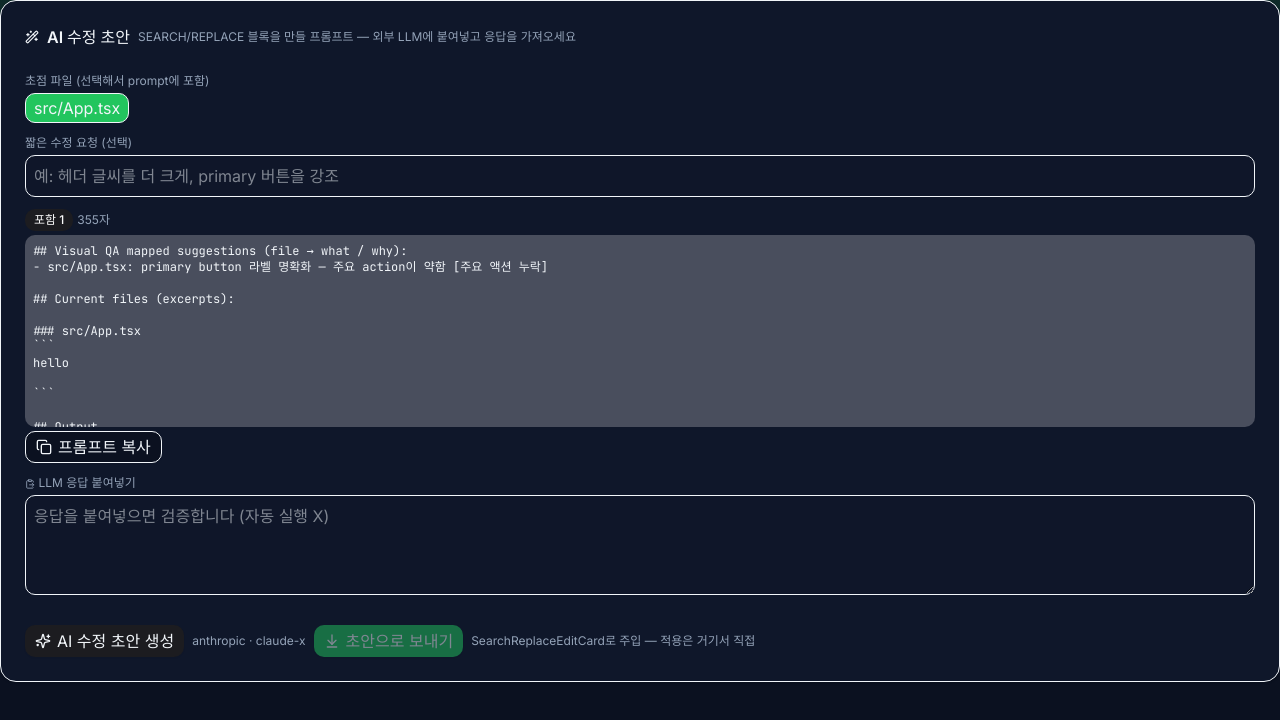
Test: TurboEditDraftCard — OSS-H5 producer surface › (T9 — H6) onGenerate 주입 + valid 응답 → paste 채움 + onSendDraft 자동 호출 + 자동 주입 라벨
Type "헤더 크게" into the field with test id "turbo-edits-instruction-th9" at [640, 176], box [25,155,1255,197]
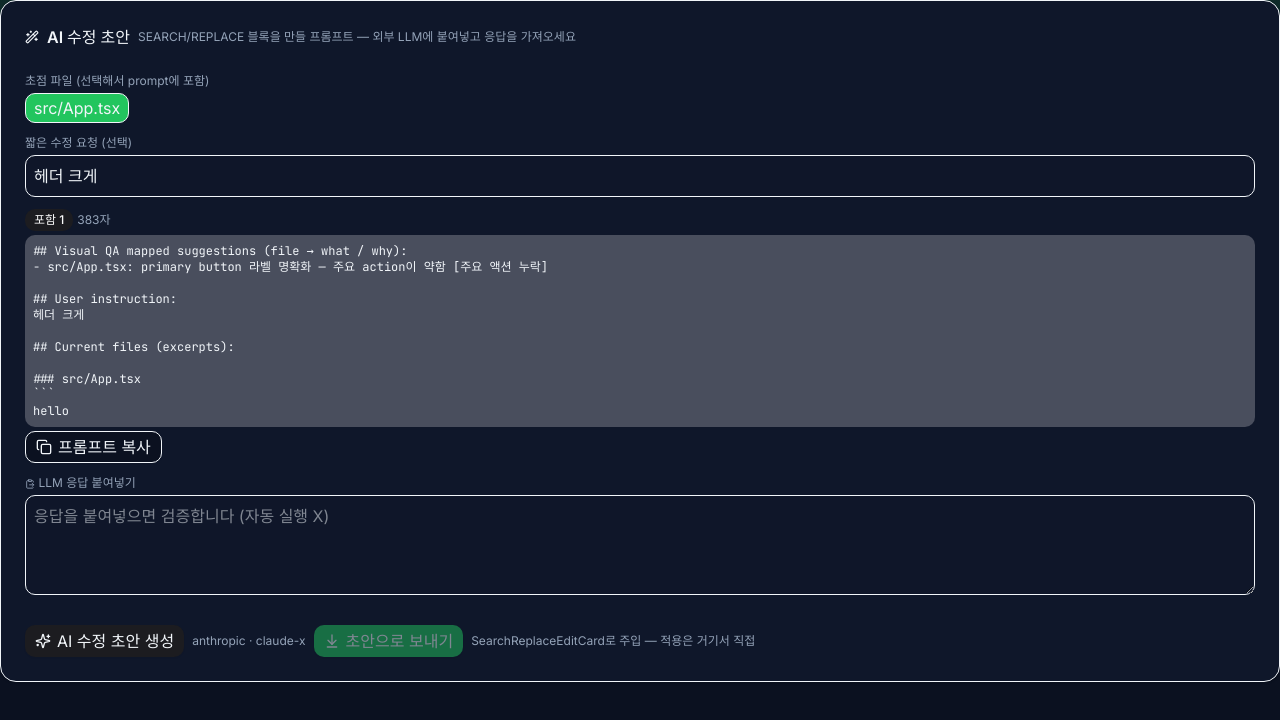
Expected: the text with test id "turbo-edits-provider-label-th9" shows "anthropic", [192,633,306,648]
Click the button with test id "turbo-edits-generate-th9" at [105, 641], box [25,625,184,657]
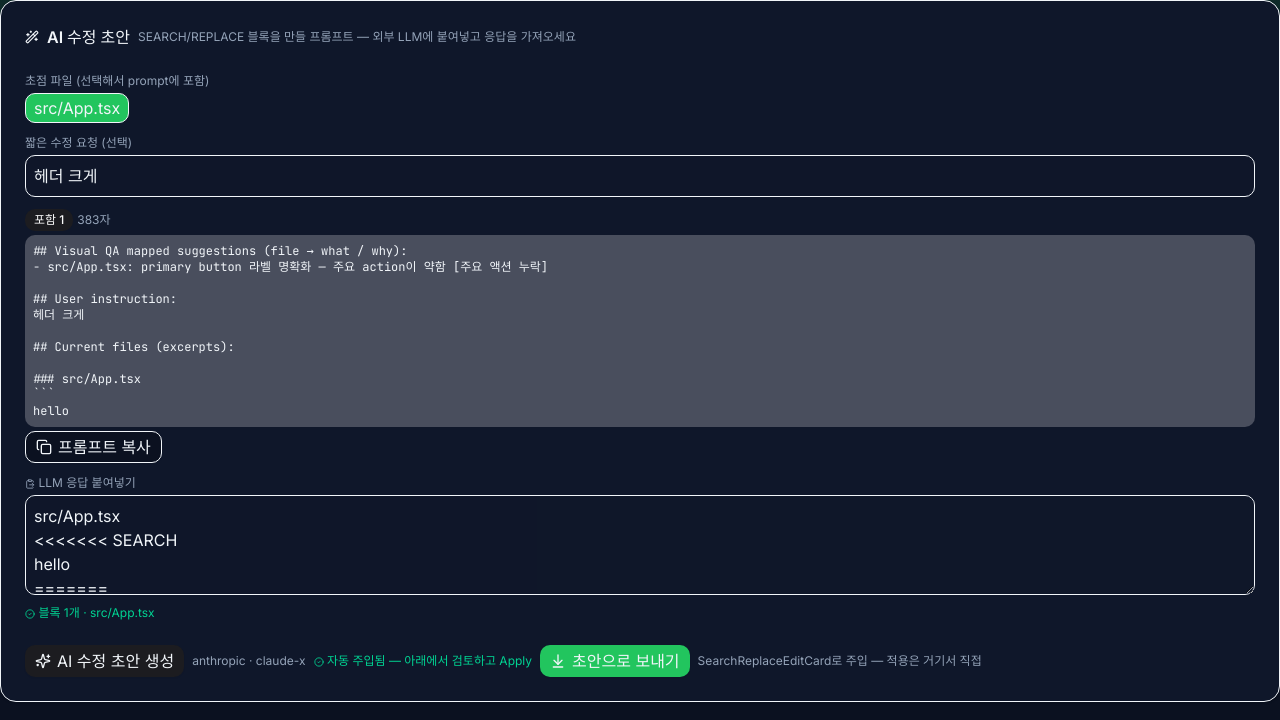
Result: the element with test id "turbo-edits-generate-injected-th9" is shown at [314,653,532,669]
